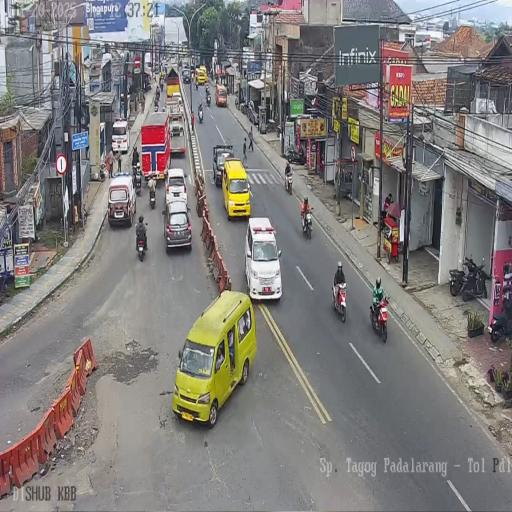3: (142, 111, 172, 182), (168, 102, 187, 154), (169, 54, 178, 75), (144, 52, 152, 74)
car: (170, 290, 256, 426), (244, 218, 281, 300), (222, 157, 251, 219), (108, 173, 137, 228), (163, 202, 192, 252), (164, 167, 187, 209), (111, 118, 130, 154), (215, 83, 227, 107), (195, 65, 207, 85), (172, 91, 182, 110), (182, 67, 191, 83), (154, 66, 160, 76)
truck: (460, 255, 489, 302), (488, 293, 512, 342), (370, 292, 388, 342), (332, 276, 347, 322), (135, 222, 148, 261), (284, 144, 306, 166), (301, 205, 313, 240), (284, 167, 293, 194), (134, 169, 142, 195), (149, 181, 156, 208), (240, 100, 250, 116), (198, 102, 204, 122), (276, 123, 282, 139), (206, 91, 211, 106), (154, 97, 159, 112), (159, 78, 164, 90), (156, 86, 160, 100), (194, 79, 198, 90)
